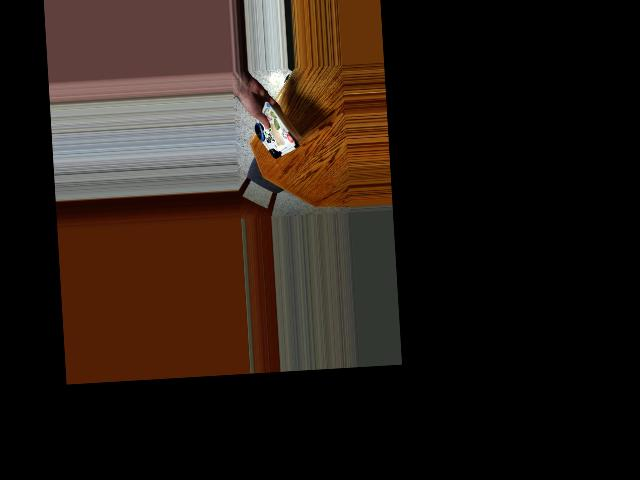cheese: (251, 103, 311, 163)
